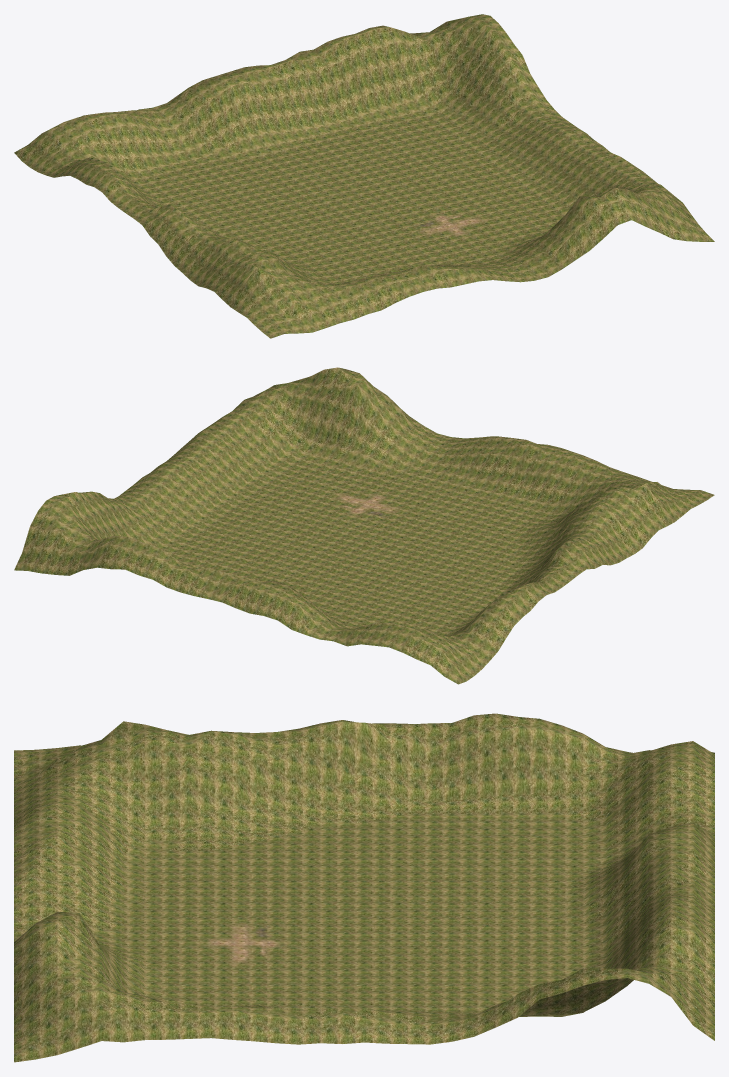
The picture shows the model from 3 angles, top to bottom: view 1: azimuth 30°, elevation 25°; view 2: azimuth 150°, elevation 25°; view 3: azimuth 270°, elevation 25°; orthographic projection. The views are drawn at different scales.
Visible parts, largest first — view 1: Mesh; view 2: Mesh; view 3: Mesh.
Part boxes in pixels (<box>): Mesh: <box>14,14,714,338</box>; Mesh: <box>14,367,714,684</box>; Mesh: <box>14,713,714,1062</box>.
Bounding box in the file's own units: 200 × 27.43 × 200.
Materials: 1 (1 with a texture image).
